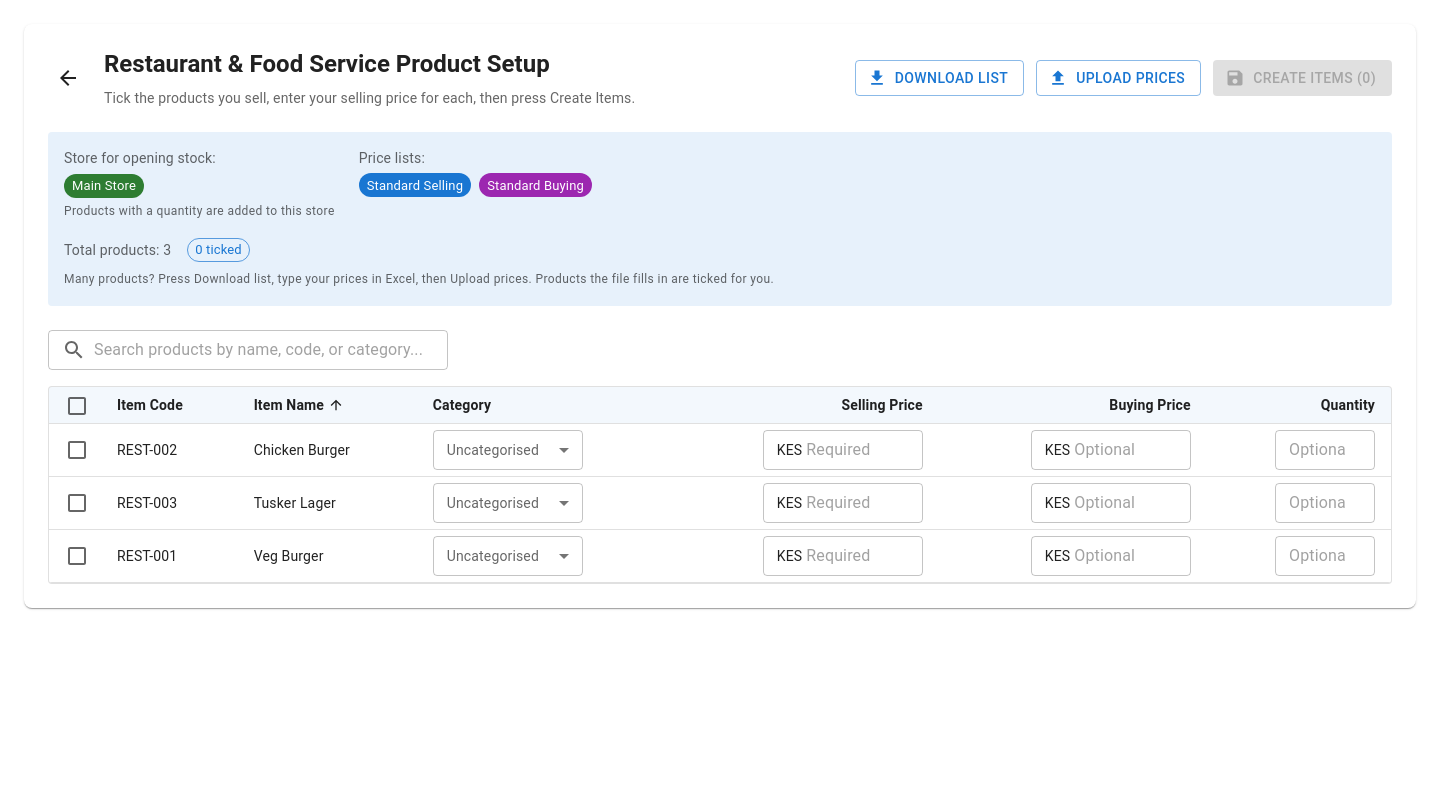
Test case: Starter products page › only ticks the products that match a search when "tick all" is used
The image size is (1440, 810).
Expected: the text "Veg Burger" is shown, [238,529,417,582]
In the field with placeholder "Search products by name, code, or category...": (271, 350) [94,330,448,370], type "burger"
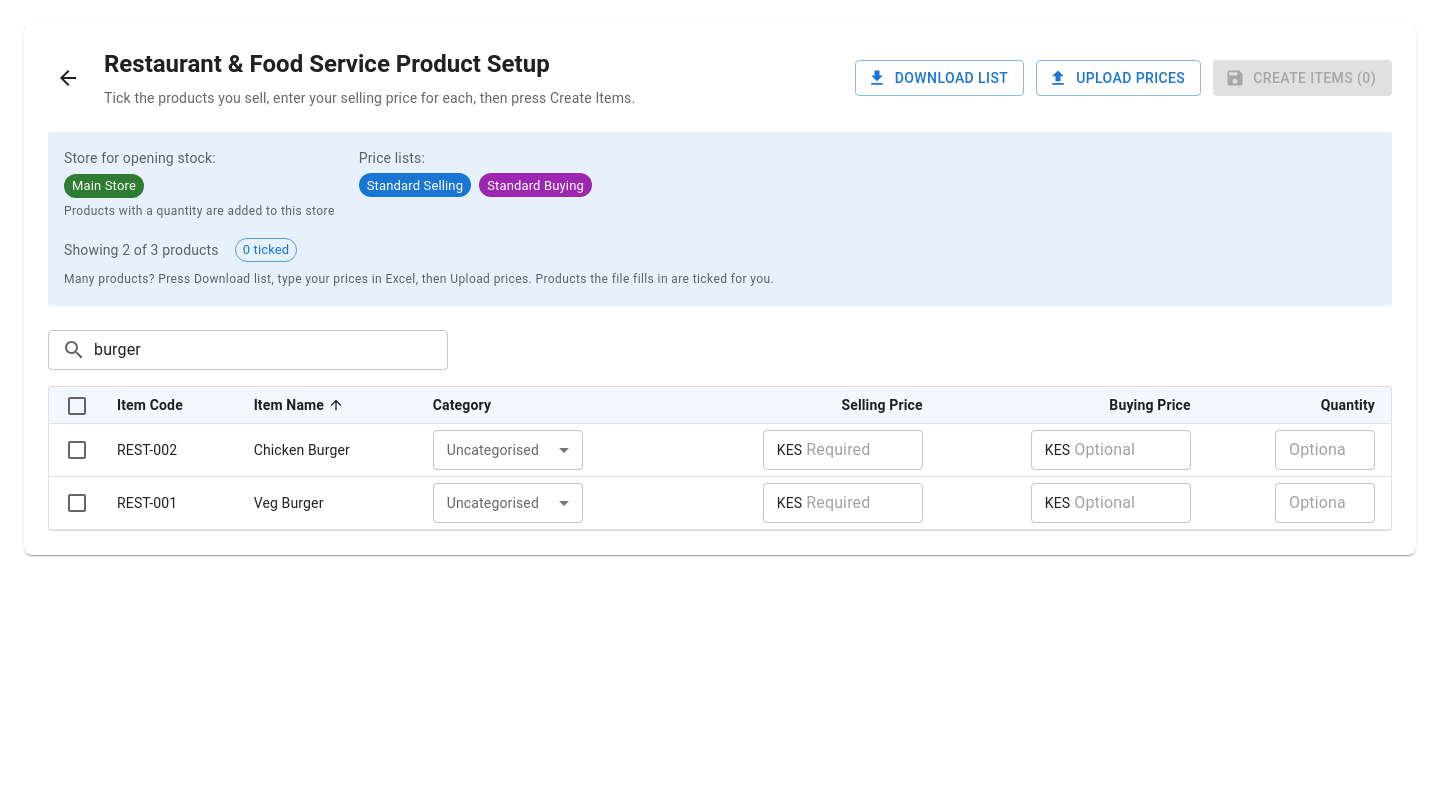
Click the checkbox named "Tick all 2 products": click(77, 406) [65,394,89,418]
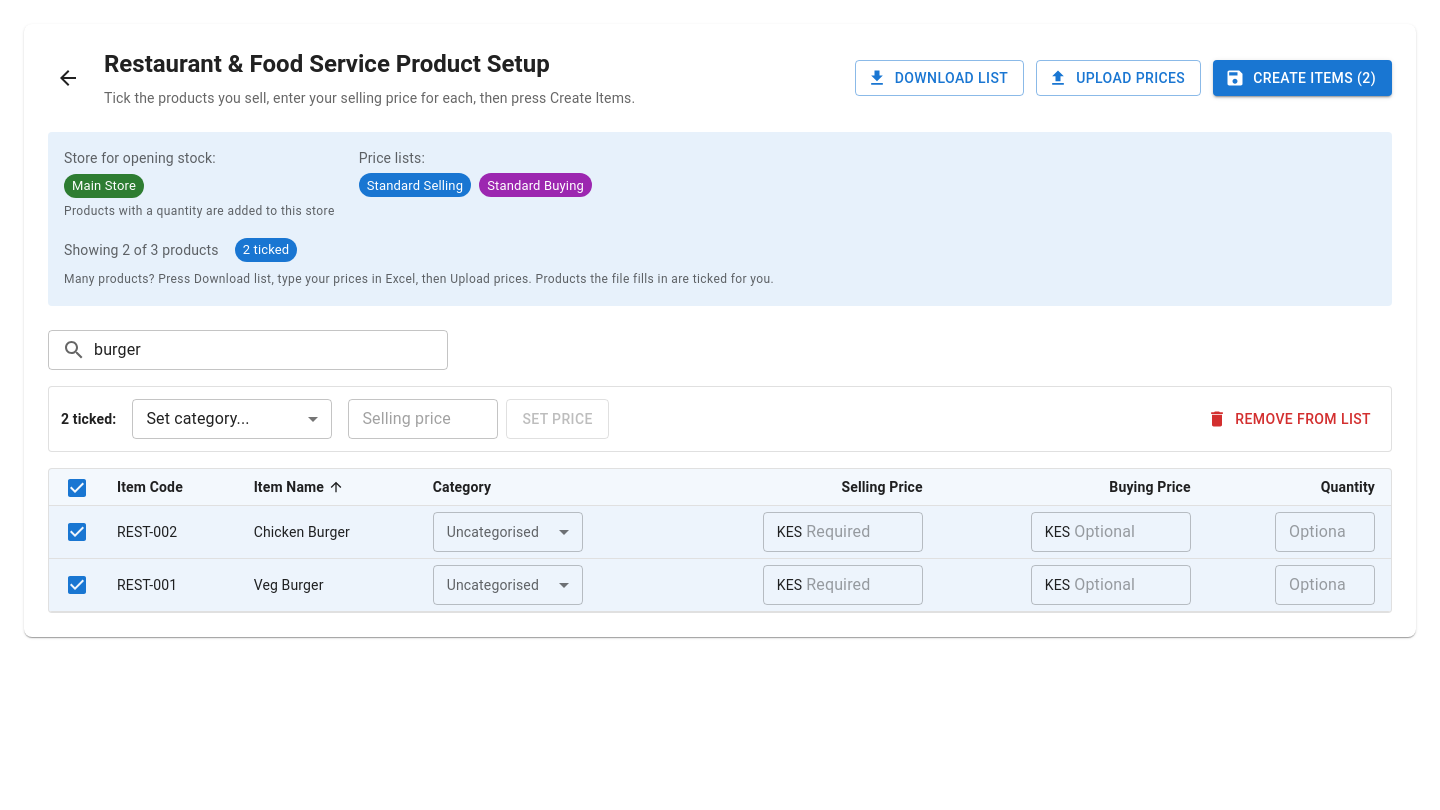
Expected: the button "Create Items (2)" is shown, [1213,60,1392,96]
